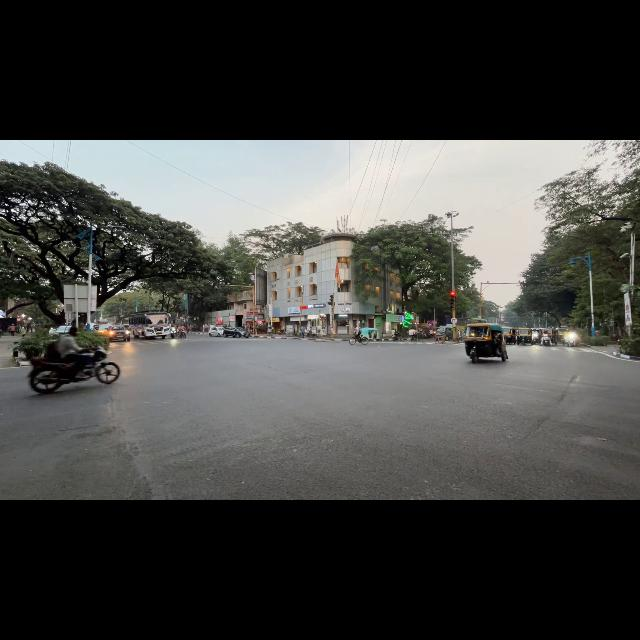bicycle: (349, 337, 368, 344)
bus: (129, 311, 170, 338), (456, 318, 486, 326)
car: (106, 325, 130, 341), (224, 327, 249, 337), (49, 325, 71, 335), (208, 327, 224, 338), (95, 324, 111, 334)
motorcycle: (29, 347, 119, 393), (564, 332, 579, 346), (541, 334, 551, 345), (410, 332, 418, 341), (392, 332, 401, 340), (170, 327, 176, 338), (178, 331, 186, 338), (278, 329, 284, 334)
